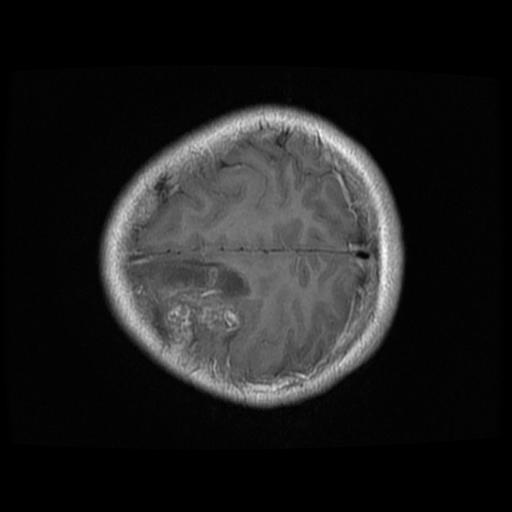glioma: (127, 261, 251, 360)
